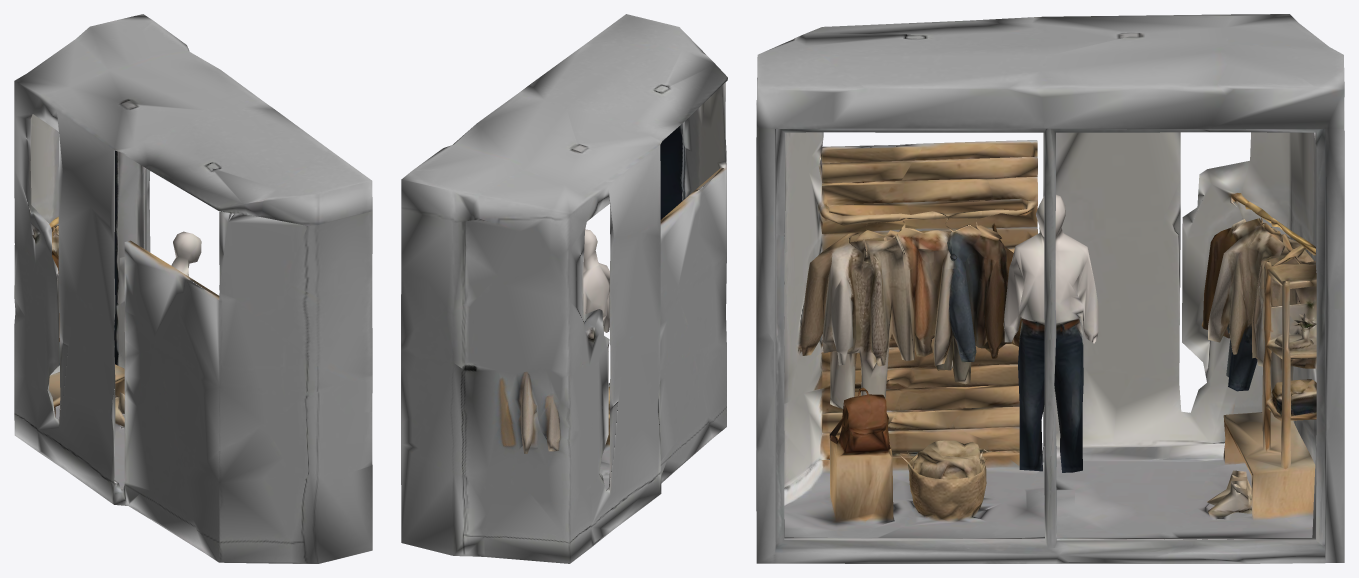
File: frontelw_lod1.glb
The picture shows the model from 3 angles, left to right: view 1: azimuth 30°, elevation 25°; view 2: azimuth 150°, elevation 25°; view 3: azimuth 270°, elevation 25°; orthographic projection. The views are drawn at different scales.
Visible parts, largest first — view 1: tripo_node_15f023c5-fded-41e5-b31d-ea46dc93f6ba; view 2: tripo_node_15f023c5-fded-41e5-b31d-ea46dc93f6ba; view 3: tripo_node_15f023c5-fded-41e5-b31d-ea46dc93f6ba.
Boxes of the visible parts, left/top/right/bottom form: tripo_node_15f023c5-fded-41e5-b31d-ea46dc93f6ba: left=14, top=14, right=372, bottom=563; tripo_node_15f023c5-fded-41e5-b31d-ea46dc93f6ba: left=401, top=14, right=727, bottom=563; tripo_node_15f023c5-fded-41e5-b31d-ea46dc93f6ba: left=756, top=14, right=1344, bottom=563.
Bounding box in the file's own units: 0.9124 × 2.1 × 2.35.
Materials: 1 (1 with a texture image).
